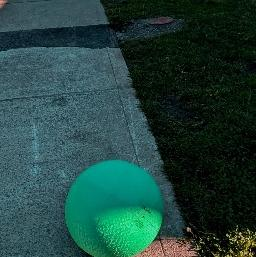algae: (65, 158, 166, 257)
